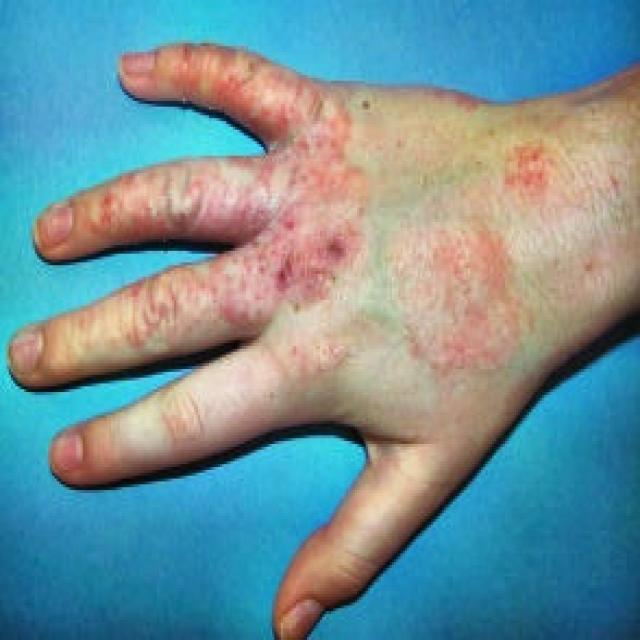Eczema: (65, 47, 378, 353)
